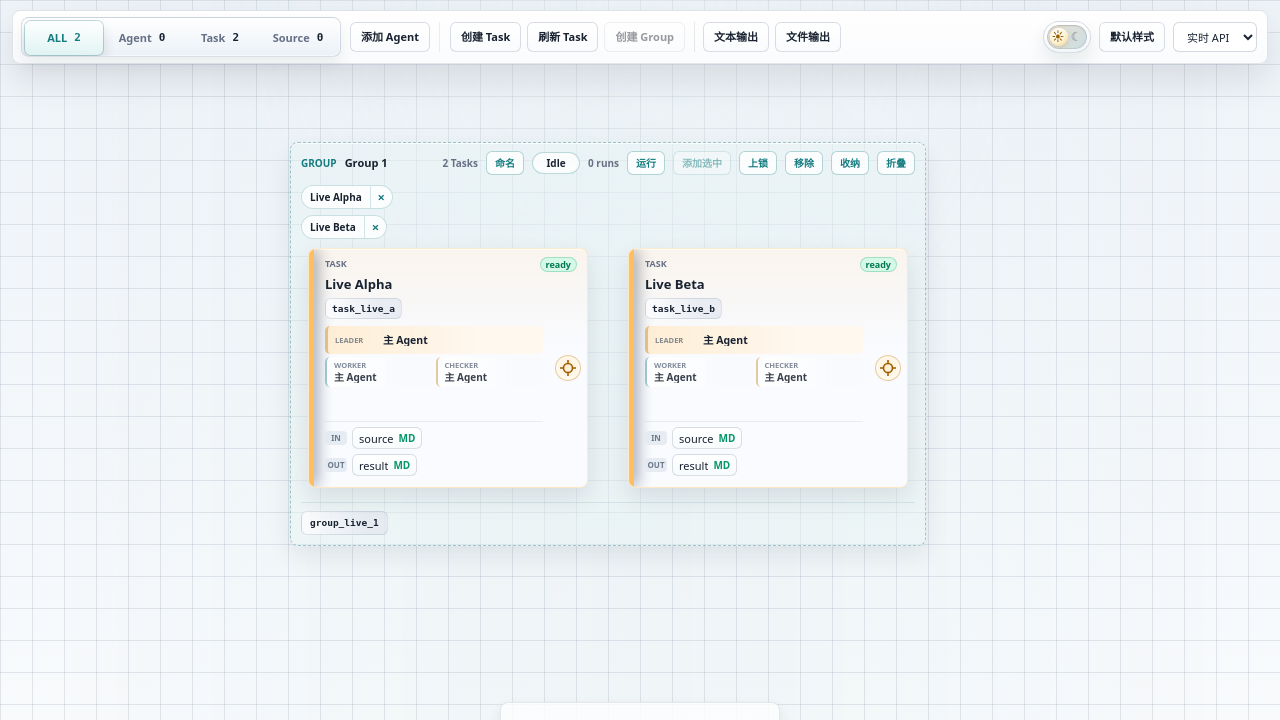
Test: App › live Task Groups › renames an unlocked Live Task Group through the backend
The image size is (1280, 720).
Click the button with aria-label "命名 Group 1": (505, 163) [486,151,524,175]
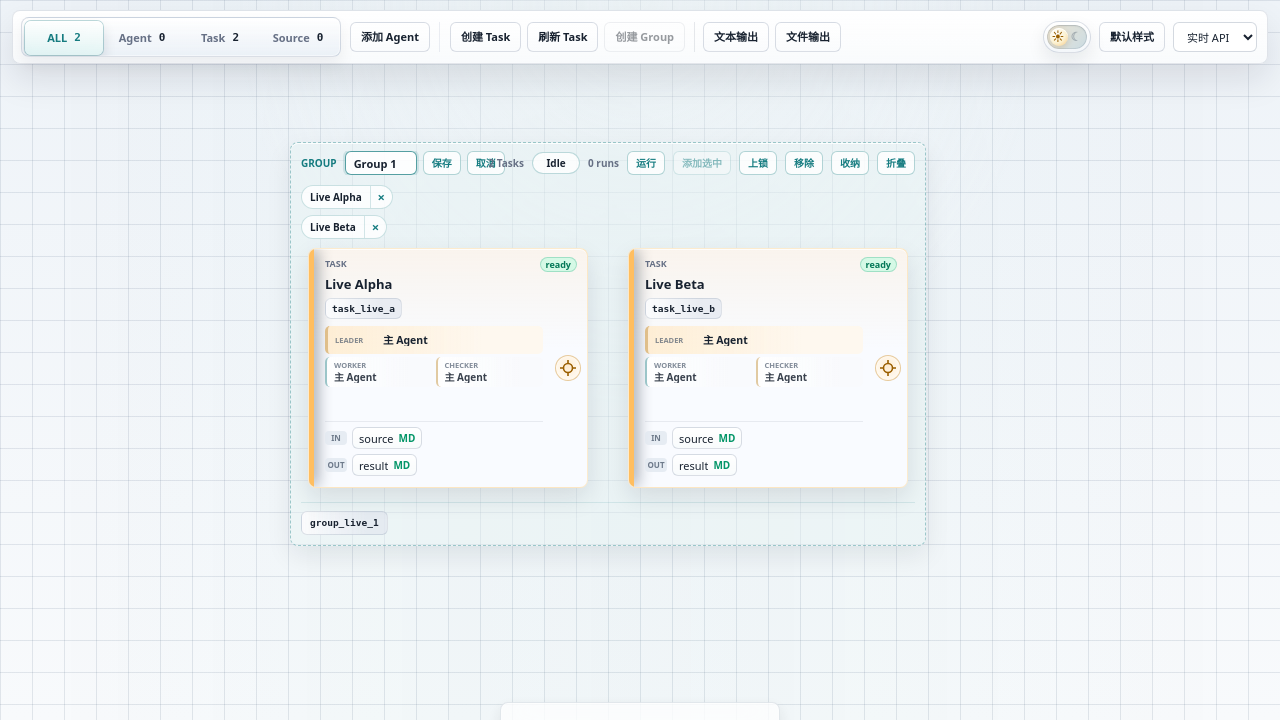
Replace the text in the field named "Group 名称 Group 1" with "糖尿病周报链路": (381, 163) [345,151,417,175]
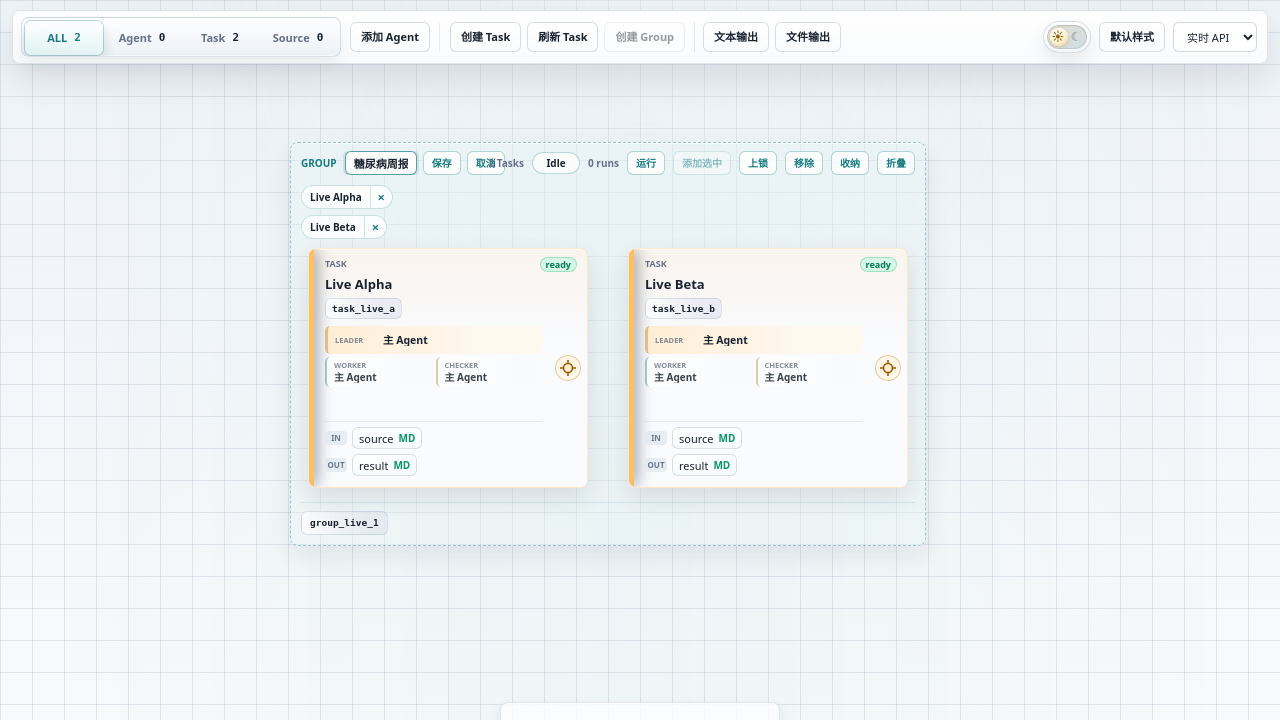
Click the button with aria-label "保存 Group 1 名称": (442, 163) [423,151,461,175]
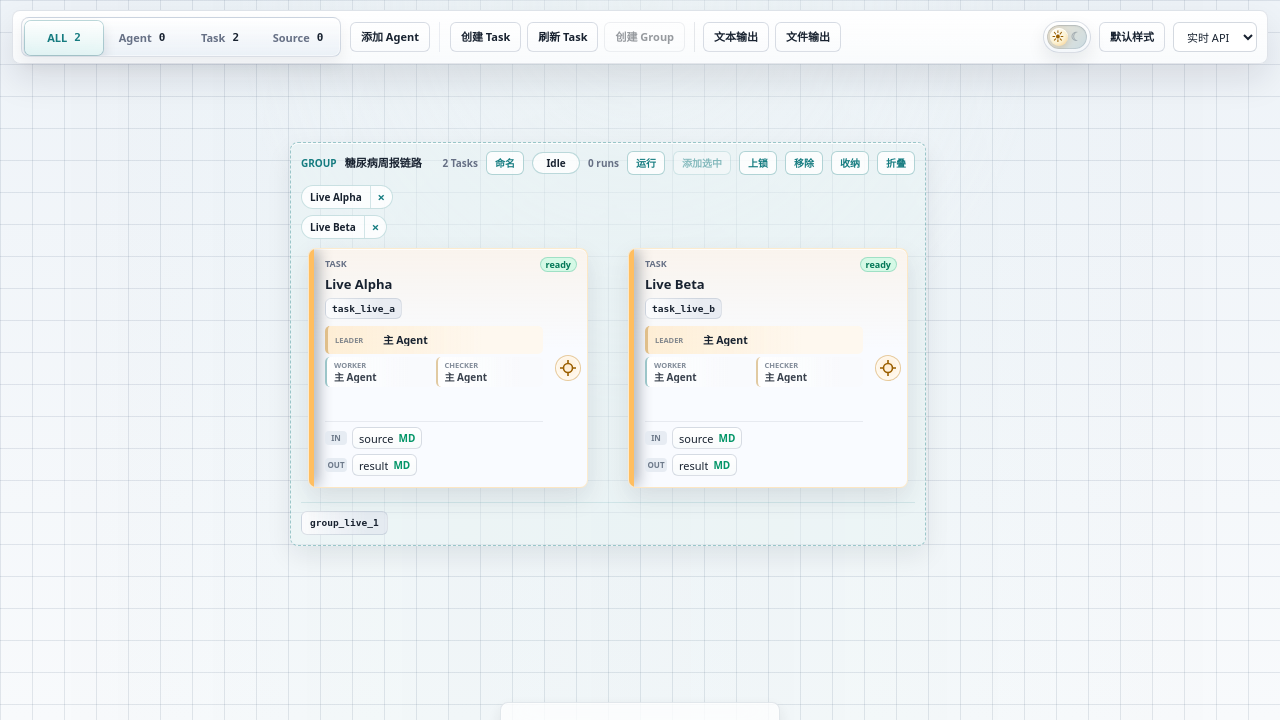
Result: the element "糖尿病周报链路" is shown at [290,142,926,546]
